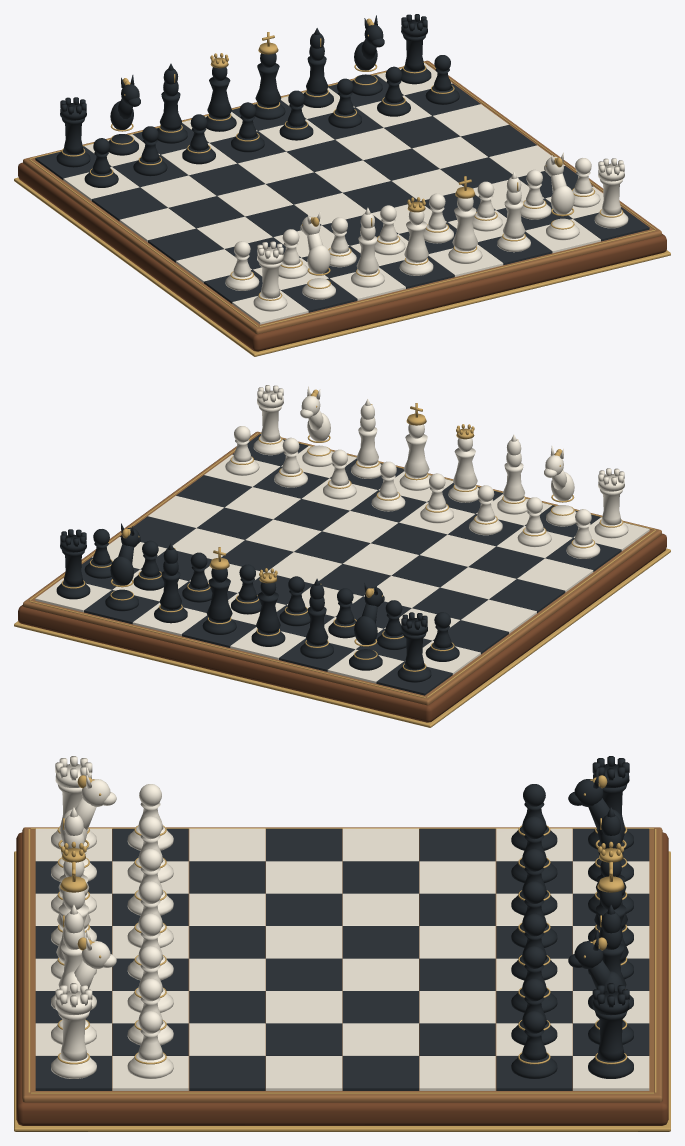
Rendered from chess.glb.
3 renders of one model, top to bottom at view 1: azimuth 30°, elevation 25°; view 2: azimuth 150°, elevation 25°; view 3: azimuth 270°, elevation 25°, orthographic. The views are drawn at different scales.
Parts seen in each view (by area): view 1: Walnut foundation, Raised walnut frame, Brass lower line, Board square.032, Board square.040, Board square.024, Board square.033, Board square.036, Board square.043, Board square.034, Board square.038, Board square.042 (+61 smaller); view 2: Walnut foundation, Raised walnut frame, Brass lower line, Board square.016, Board square.024, Board square.032, Board square.019, Board square.025, Board square.028, Board square.018, Board square.021, Board square.022 (+61 smaller); view 3: Walnut foundation, Raised walnut frame, Brass lower line, Board square.023, Board square.031, Board square.039, Board square.047, Board square.016, Board square.040, Board square.024, Board square.032, Board square.017 (+70 smaller).
Boxes of the visible parts, x1=… form: Walnut foundation: x1=18, y1=162, x2=666, y2=351; Raised walnut frame: x1=23, y1=60, x2=661, y2=334; Brass lower line: x1=14, y1=177, x2=670, y2=356; Board square.032: x1=119, y1=208, x2=195, y2=242; Board square.040: x1=91, y1=187, x2=167, y2=221; Board square.024: x1=148, y1=228, x2=223, y2=262; Board square.033: x1=168, y1=196, x2=244, y2=228; Board square.036: x1=314, y1=160, x2=390, y2=192; Board square.043: x1=238, y1=151, x2=313, y2=183; Board square.034: x1=217, y1=184, x2=293, y2=216; Board square.038: x1=412, y1=136, x2=487, y2=168; Board square.042: x1=189, y1=163, x2=264, y2=195; Walnut foundation: x1=18, y1=533, x2=666, y2=722; Raised walnut frame: x1=23, y1=431, x2=661, y2=705; Brass lower line: x1=14, y1=548, x2=670, y2=727; Board square.016: x1=517, y1=558, x2=593, y2=592; Board square.024: x1=489, y1=579, x2=565, y2=613; Board square.032: x1=461, y1=599, x2=536, y2=633; Board square.019: x1=371, y1=522, x2=446, y2=554; Board square.025: x1=440, y1=567, x2=516, y2=599; Board square.028: x1=294, y1=531, x2=370, y2=563; Board square.018: x1=420, y1=534, x2=495, y2=566; Board square.021: x1=273, y1=499, x2=349, y2=531; Board square.022: x1=225, y1=487, x2=300, y2=519; Walnut foundation: x1=16, y1=832, x2=668, y2=1125; Raised walnut frame: x1=22, y1=827, x2=662, y2=1102; Brass lower line: x1=14, y1=851, x2=670, y2=1131; Board square.023: x1=189, y1=1056, x2=265, y2=1090; Board square.031: x1=266, y1=1056, x2=342, y2=1090; Board square.039: x1=342, y1=1056, x2=418, y2=1090; Board square.047: x1=419, y1=1056, x2=495, y2=1090; Board square.016: x1=189, y1=828, x2=265, y2=861; Board square.040: x1=419, y1=828, x2=495, y2=861; Board square.024: x1=266, y1=828, x2=342, y2=861; Board square.032: x1=342, y1=828, x2=418, y2=861; Board square.017: x1=189, y1=861, x2=265, y2=893.
Bounding box in the file's own units: 8.56 × 2.12 × 8.56.
